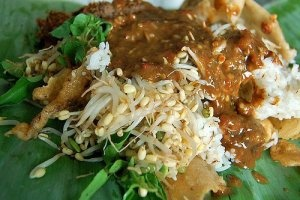pecel: (42, 2, 298, 171)
